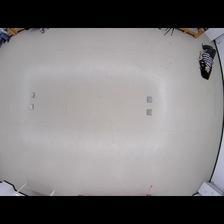fall: (196, 40, 218, 81)
